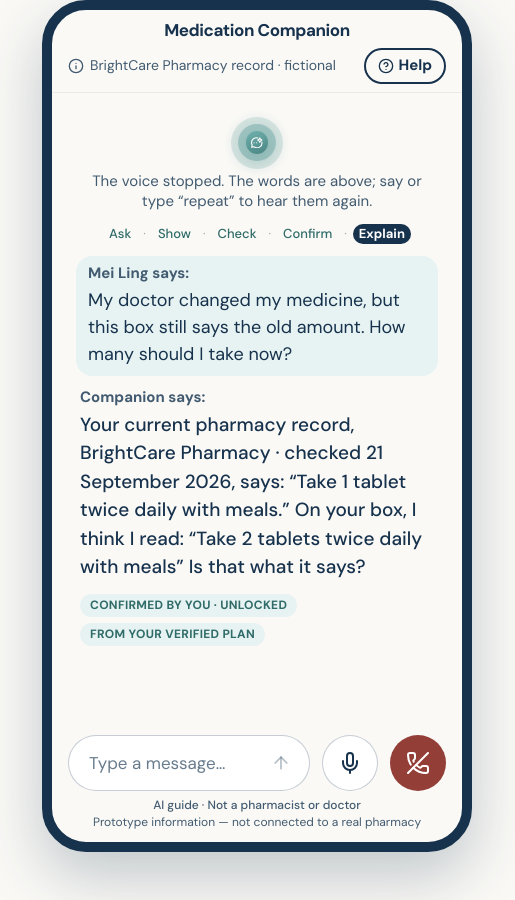
Test: dose-change journey in the call (UI) › with the AI on: the wording is picked out by meaning, but only her own words are ever used › a rambling reading is said back as the wording she meant
Type "no" into the field at (171, 763), box top-left (89, 736), bottom-right (253, 790)
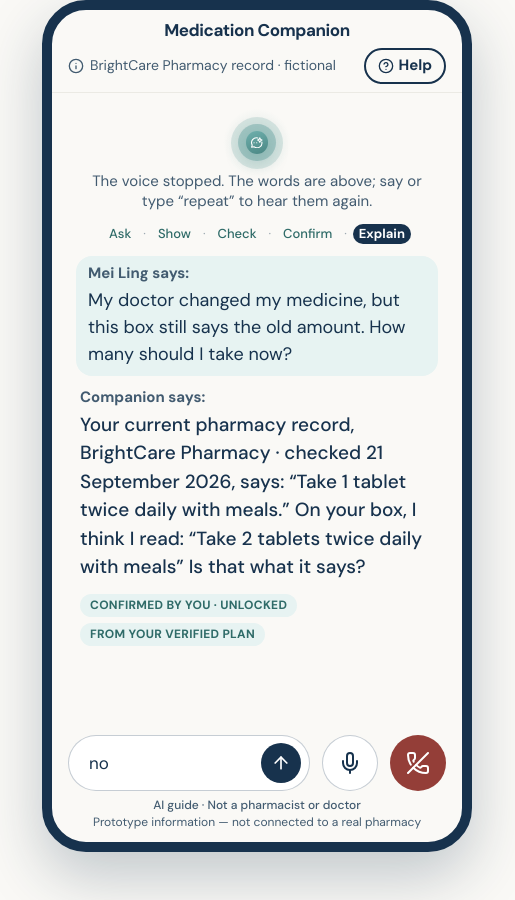
Submit the form, box top-left (68, 735), bottom-right (310, 791)
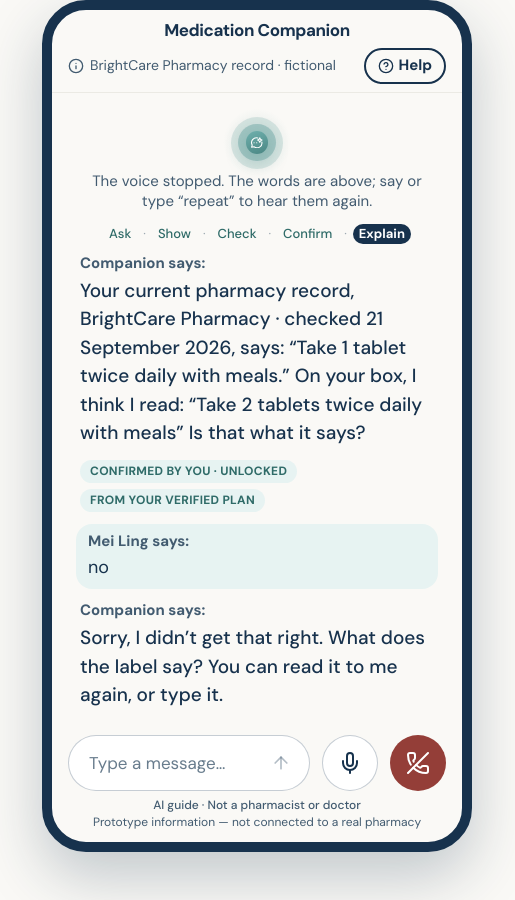
Type "so the box, hmm, it's one tablet I would say twice a day" into the field at (171, 763), box top-left (89, 736), bottom-right (253, 790)
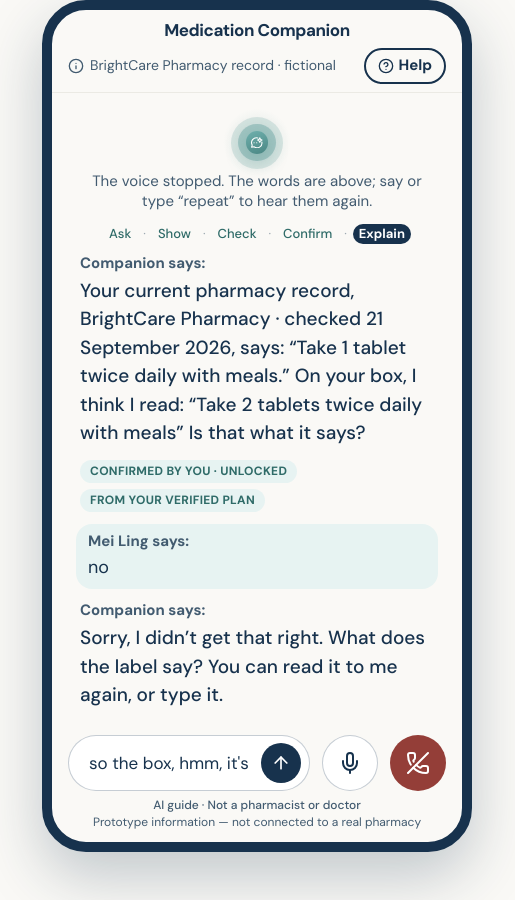
Submit the form, box top-left (68, 735), bottom-right (310, 791)
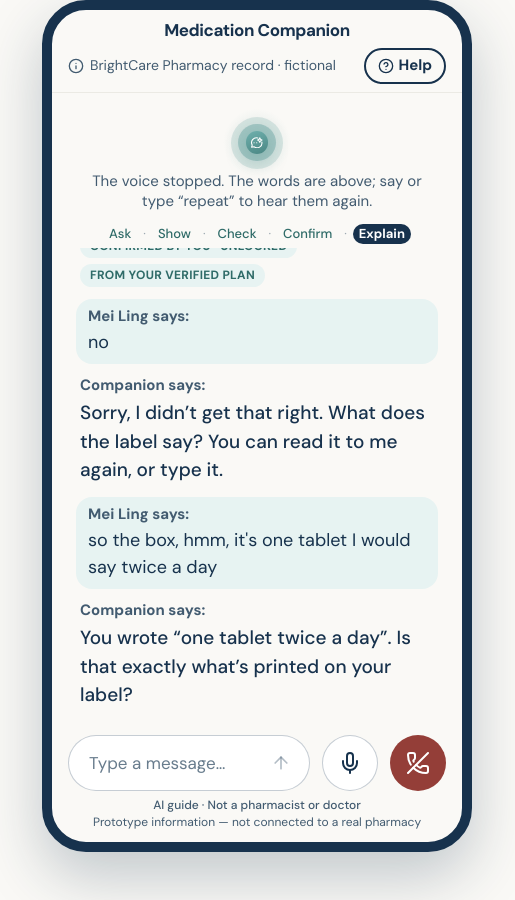
Expected: the text "You wrote “one tablet twice a day”. Is that exactly what’s printed on your label?" is shown, top-left (80, 625), bottom-right (411, 707)
Expected: the text "so the box, hmm, it's one tablet I would say twice a day" is shown, top-left (88, 527), bottom-right (426, 581)
